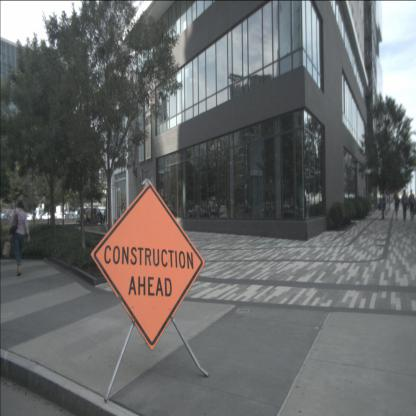human-pedestrian-adult: (2, 197, 30, 277), (400, 188, 409, 224), (408, 188, 416, 223), (393, 190, 400, 222)
vehicle-car: (78, 207, 104, 224), (188, 205, 207, 218), (42, 212, 57, 222), (220, 205, 228, 215)
vehicle-truck: (283, 201, 291, 209)
